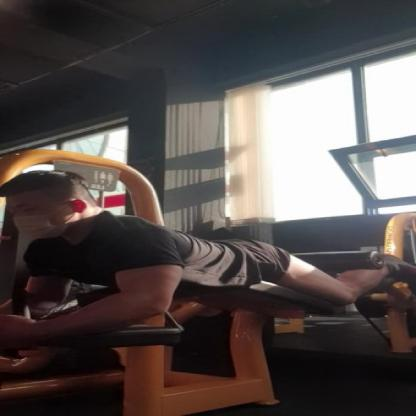reg curl machine: (0, 146, 416, 416)
